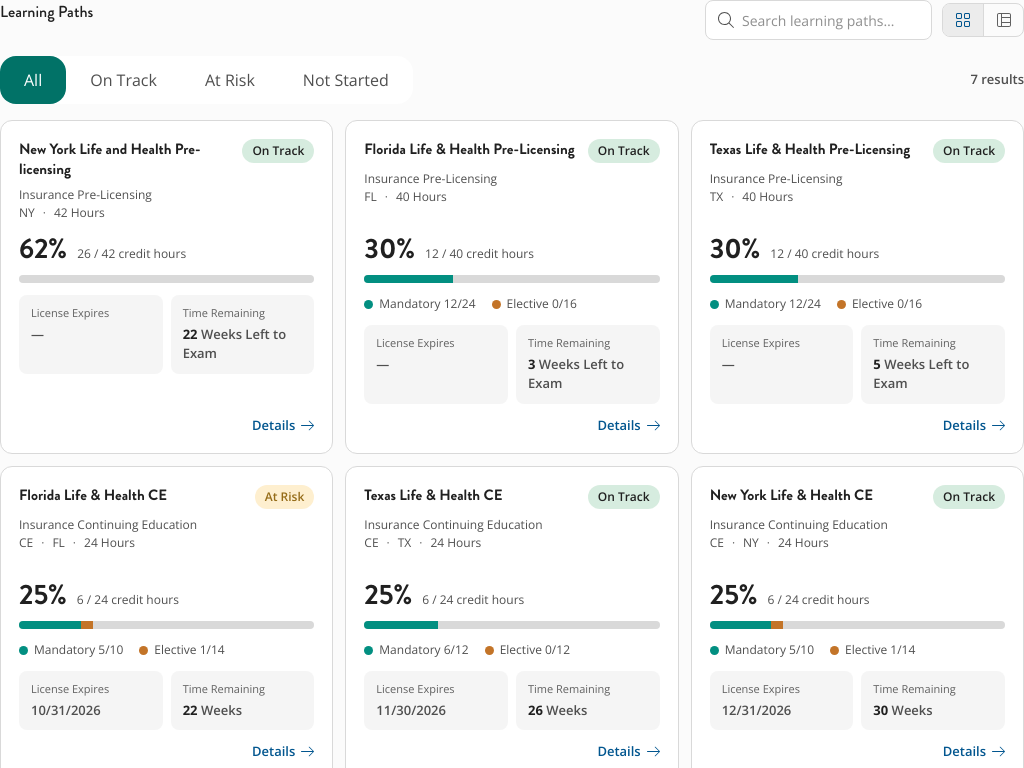
Test case: LearningPathsHome — Table view › switches to a table with one clickable row per visible path, and persists the choice
Click the button named "Table view" at (1003,20), box [983,4,1023,36]
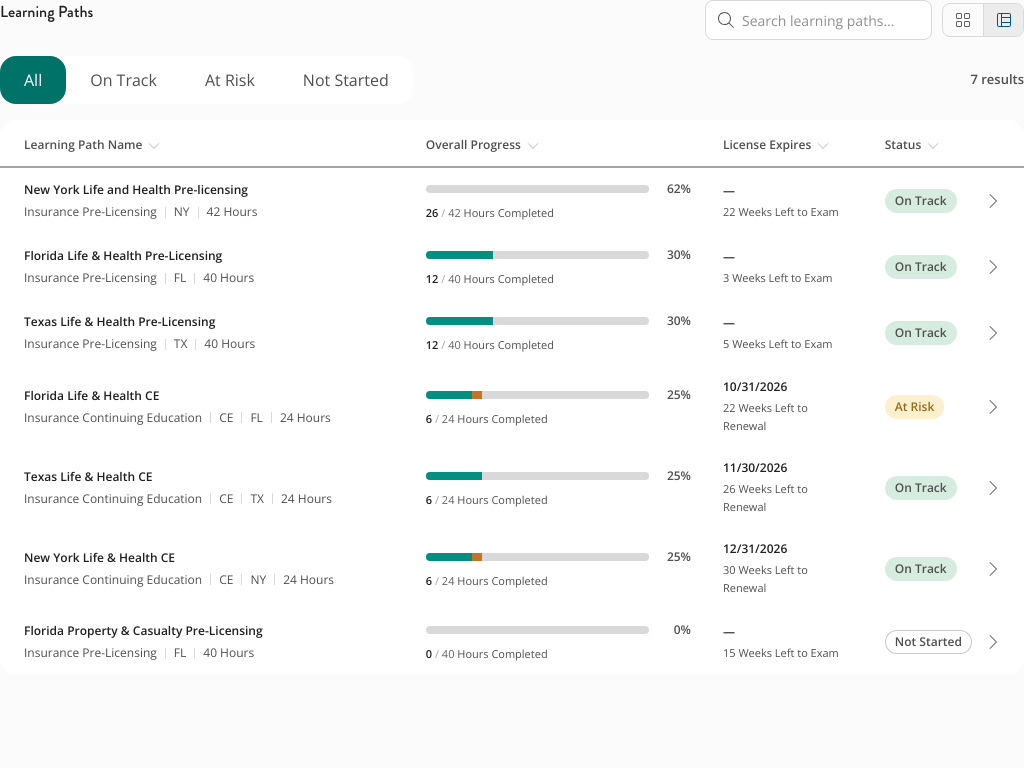
Check: the column heading "Learning Path Name" is shown, box [0,120,410,167]
Check: the number of column headings is 4, box [0,120,410,167]; [410,120,707,167]; [707,120,869,167]; [869,120,1023,167]
